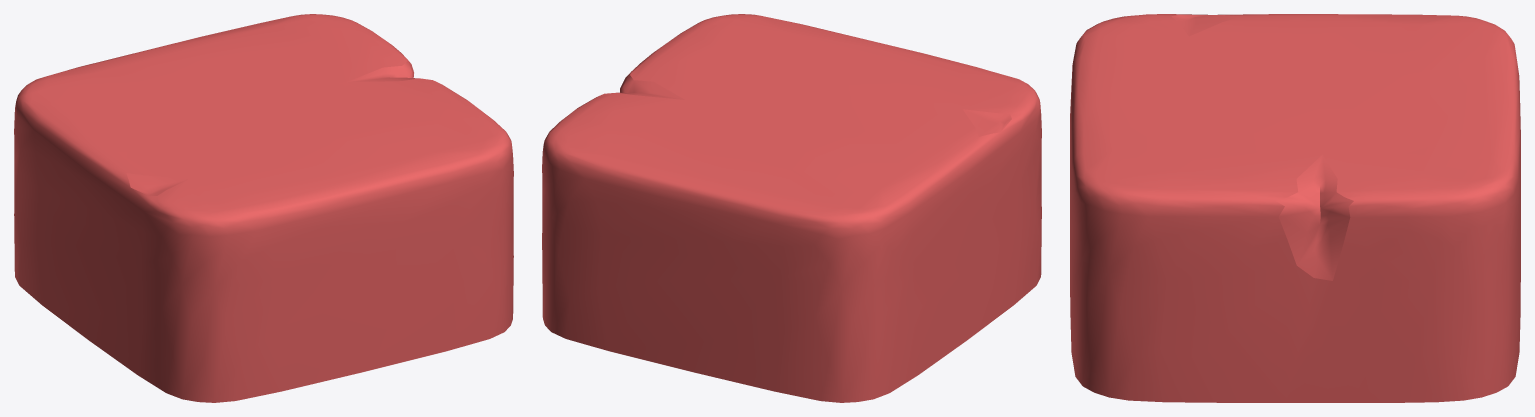
Rendered from lavaDing_06.fbx.
3 renders of one model, left to right at view 1: azimuth 30°, elevation 25°; view 2: azimuth 150°, elevation 25°; view 3: azimuth 270°, elevation 25°, orthographic. The views are drawn at different scales.
Parts seen in each view (by area): view 1: Cube.017; view 2: Cube.017; view 3: Cube.017.
Part boxes in pixels (box(x1,y1,x2,y2)): Cube.017: box(14, 14, 513, 402); Cube.017: box(542, 14, 1041, 402); Cube.017: box(1070, 14, 1520, 402).
Bounding box in the file's own units: 200 × 99.99 × 200.
